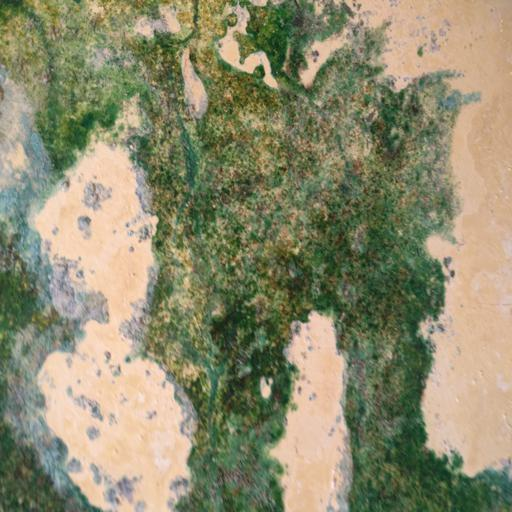algae: (4, 0, 512, 512)
